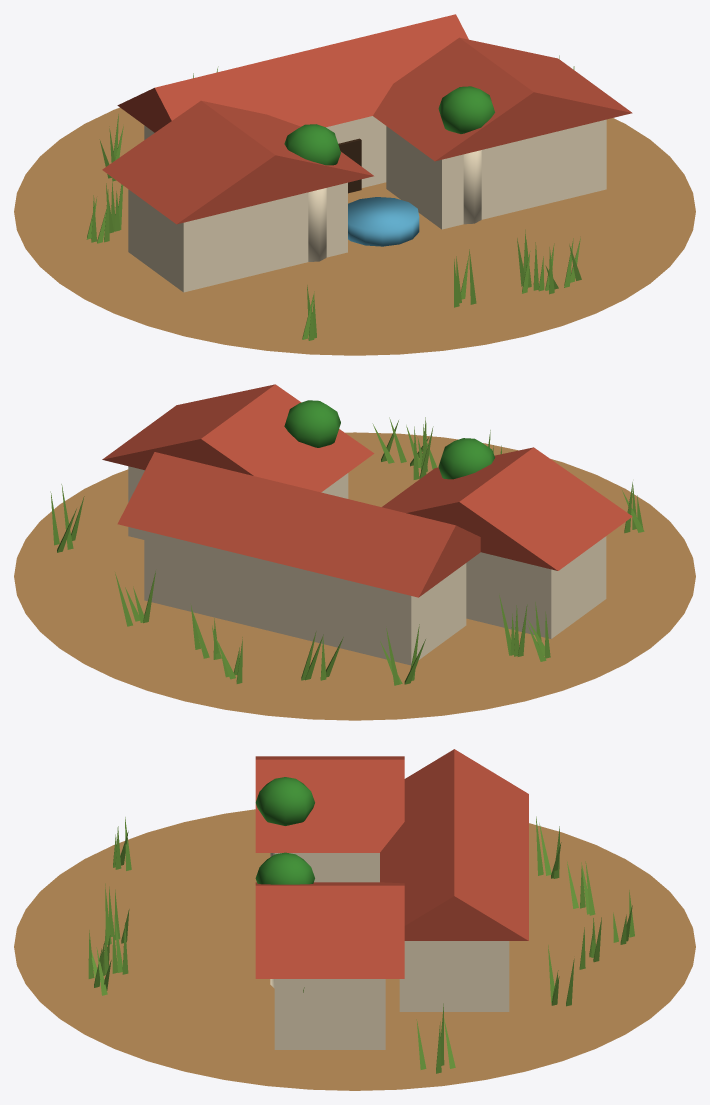
The model's file is improvement_hacienda.fbx.
3 views of the same model, one above another, from view 1: azimuth 30°, elevation 25°; view 2: azimuth 150°, elevation 25°; view 3: azimuth 270°, elevation 25° (orthographic).
Parts seen in each view (by area): view 1: improvement_hacienda_gpatch#b88a54r_00, improvement_hacienda_tiles.003_03, improvement_hacienda_hacw_02, improvement_hacienda_leaf#6a9a3a.016_01, improvement_hacienda_hacpot_06, improvement_hacienda_hacfn_05, improvement_hacienda_door.007_04; view 2: improvement_hacienda_gpatch#b88a54r_00, improvement_hacienda_tiles.003_03, improvement_hacienda_hacw_02, improvement_hacienda_leaf#6a9a3a.016_01, improvement_hacienda_hacpot_06; view 3: improvement_hacienda_gpatch#b88a54r_00, improvement_hacienda_tiles.003_03, improvement_hacienda_hacw_02, improvement_hacienda_leaf#6a9a3a.016_01, improvement_hacienda_hacpot_06.
Boxes of the visible parts, x1=… form: improvement_hacienda_gpatch#b88a54r_00: x1=14, y1=107, x2=695, y2=355; improvement_hacienda_tiles.003_03: x1=102, y1=14, x2=632, y2=224; improvement_hacienda_hacw_02: x1=128, y1=116, x2=606, y2=292; improvement_hacienda_leaf#6a9a3a.016_01: x1=86, y1=55, x2=581, y2=340; improvement_hacienda_hacpot_06: x1=284, y1=86, x2=494, y2=165; improvement_hacienda_hacfn_05: x1=348, y1=197, x2=419, y2=246; improvement_hacienda_door.007_04: x1=338, y1=138, x2=361, y2=193; improvement_hacienda_gpatch#b88a54r_00: x1=14, y1=432, x2=695, y2=720; improvement_hacienda_tiles.003_03: x1=102, y1=384, x2=632, y2=597; improvement_hacienda_hacw_02: x1=128, y1=466, x2=606, y2=665; improvement_hacienda_leaf#6a9a3a.016_01: x1=50, y1=417, x2=644, y2=685; improvement_hacienda_hacpot_06: x1=284, y1=400, x2=494, y2=479; improvement_hacienda_gpatch#b88a54r_00: x1=14, y1=809, x2=695, y2=1090; improvement_hacienda_tiles.003_03: x1=255, y1=749, x2=528, y2=978; improvement_hacienda_hacw_02: x1=270, y1=853, x2=509, y2=1049; improvement_hacienda_leaf#6a9a3a.016_01: x1=88, y1=816, x2=634, y2=1073; improvement_hacienda_hacpot_06: x1=255, y1=777, x2=314, y2=884.
Bounding box in the file's own units: 137 × 29.38 × 137.
